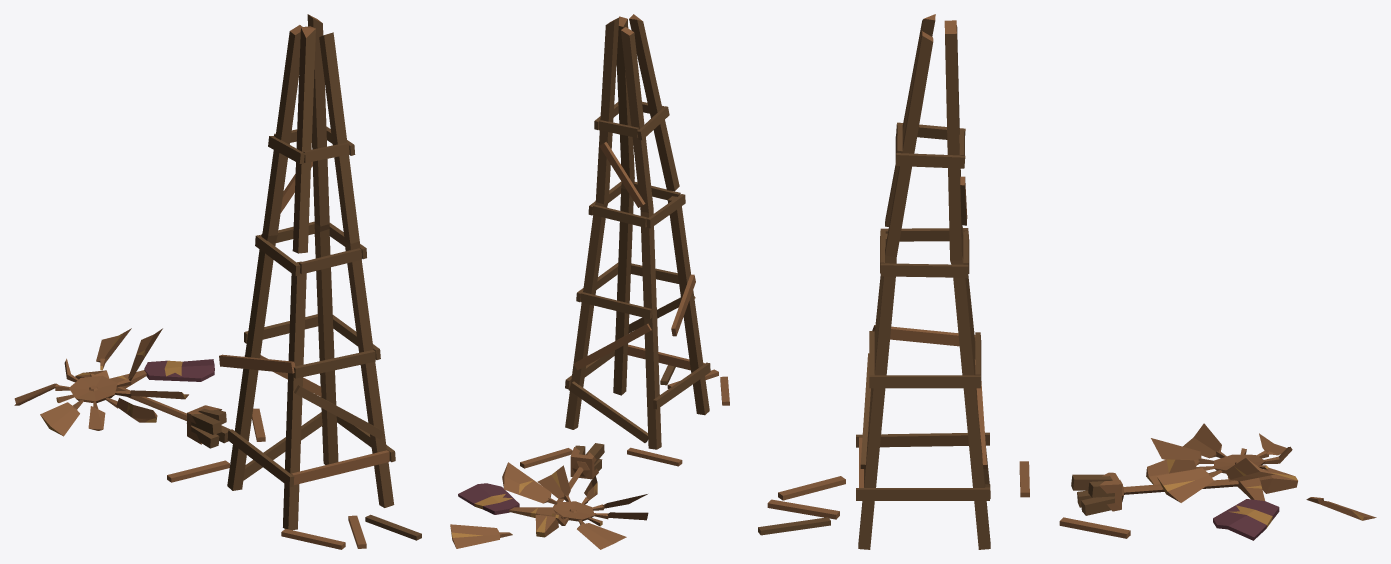
The model's file is windmill-western-apocalypse-b.fbx.
3 views of the same model, side by side, from view 1: azimuth 30°, elevation 25°; view 2: azimuth 150°, elevation 25°; view 3: azimuth 270°, elevation 25° (orthographic). The views are drawn at different scales.
Parts seen in each view (by area): view 1: windmill-western-apocalypse-b; view 2: windmill-western-apocalypse-b; view 3: windmill-western-apocalypse-b.
Boxes of the visible parts, bbox=[...] form: windmill-western-apocalypse-b: bbox=[14, 14, 421, 549]; windmill-western-apocalypse-b: bbox=[450, 14, 729, 549]; windmill-western-apocalypse-b: bbox=[758, 14, 1376, 549].
Size of the model in its own units: 3.1 by 7.04 by 7.77.
